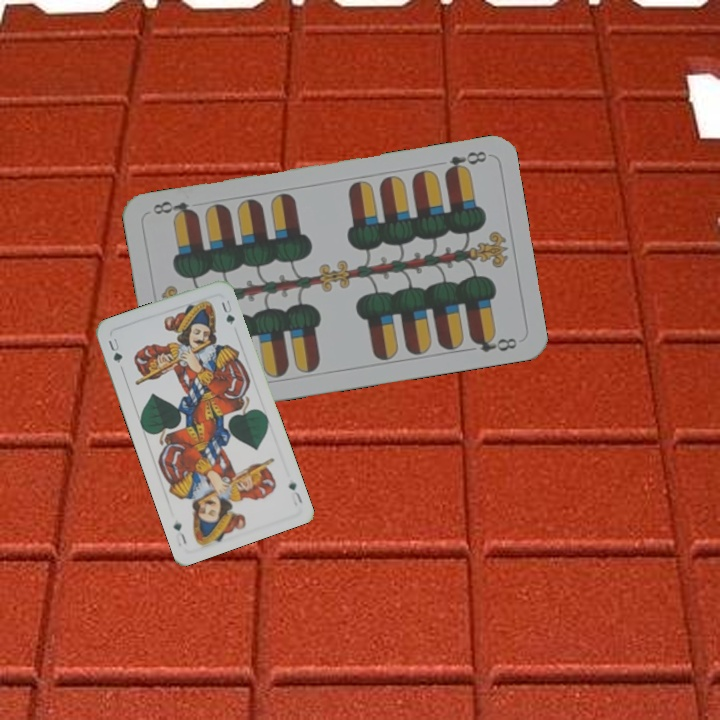E8: (440, 147, 489, 177)
GU: (104, 334, 125, 366), (284, 478, 305, 507)
